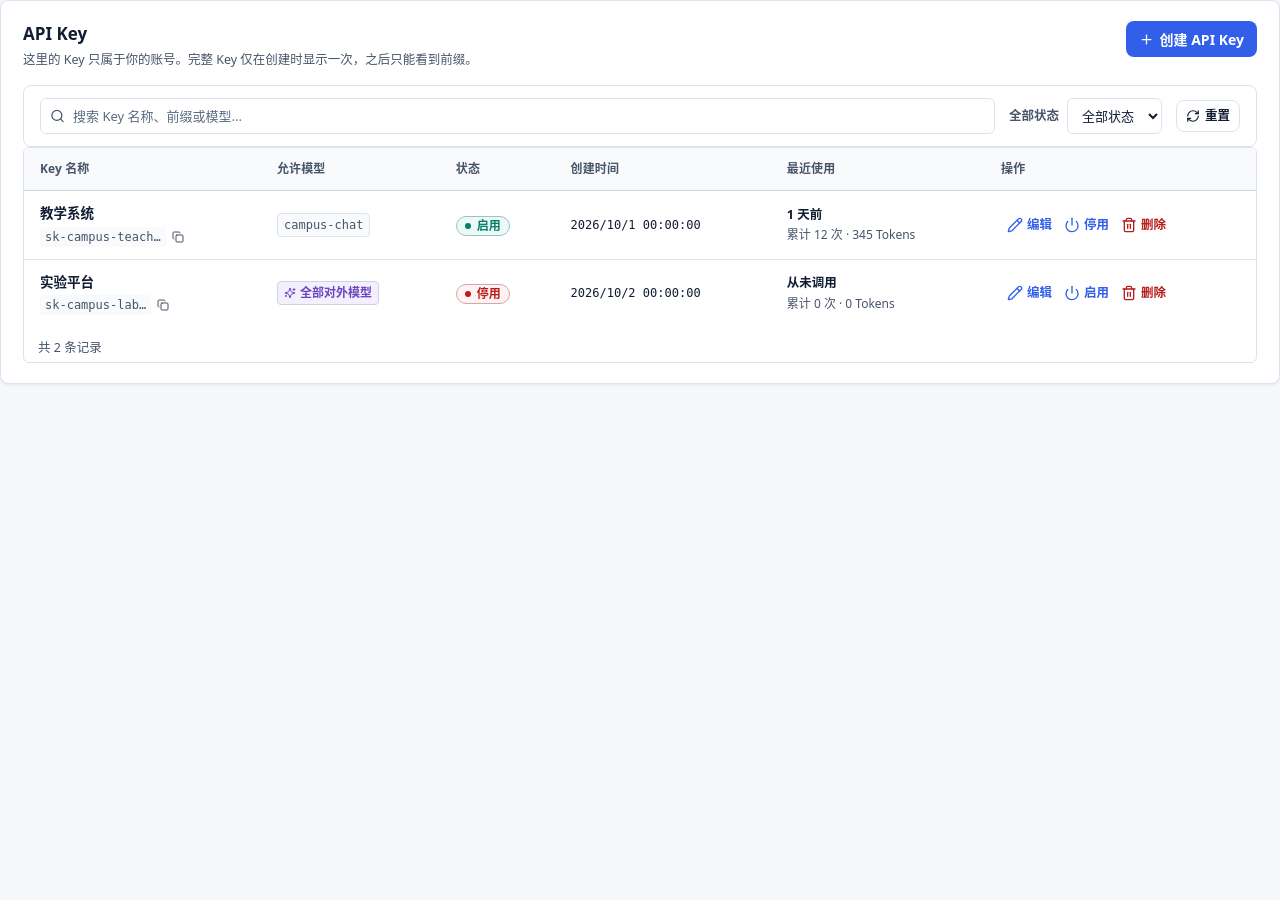
Test: personal console API keys › requires the key name to be typed before a permanent delete
Check: the text "教学系统" is shown, box [40,204,94,222]
Click the button "删除" in the row of "教学系统": [1144, 225] box [1115,212,1172,238]
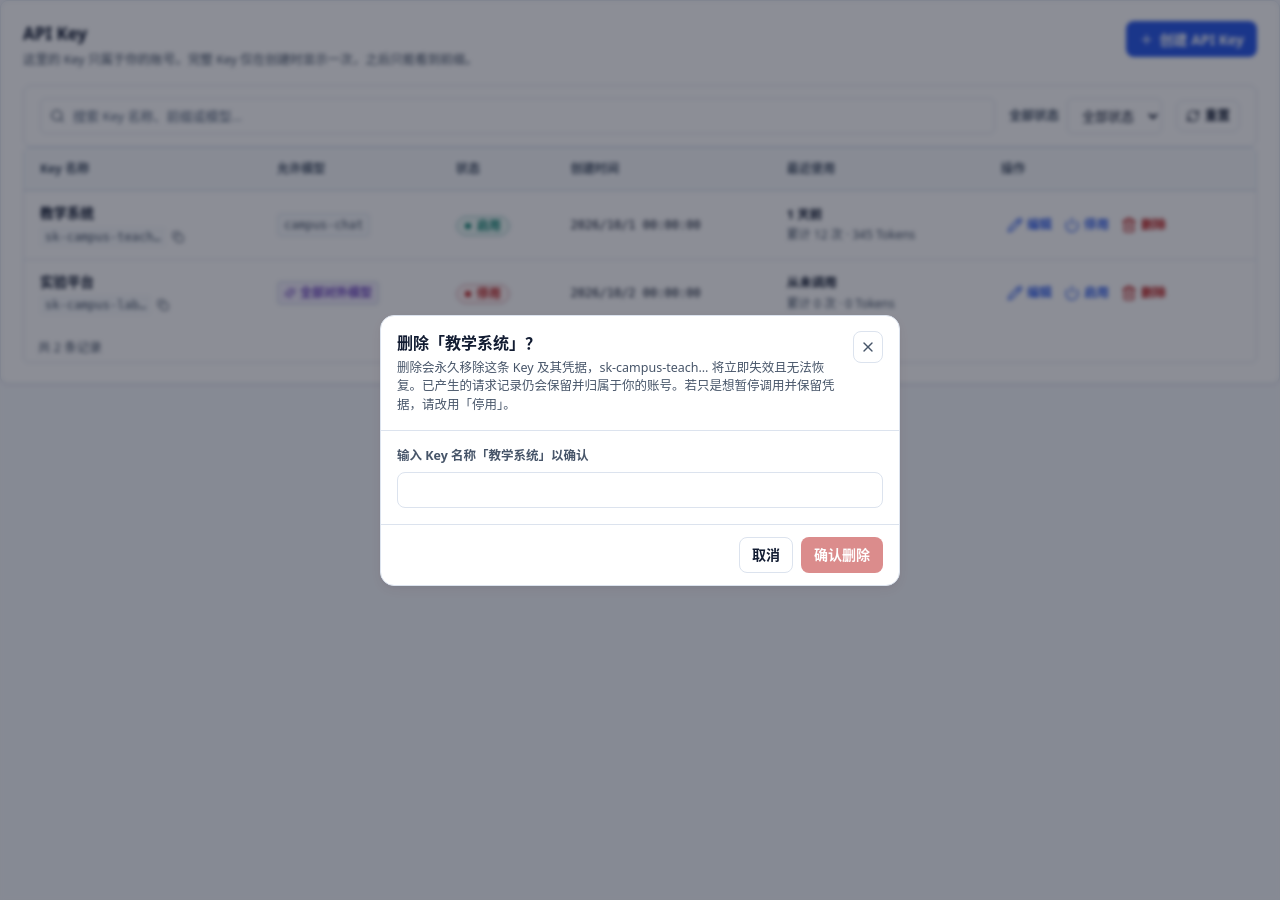
Check: the text "请改用「停用」" is shown, box [397,358,834,413]
Check: the button "确认删除" is disabled, box [801,536,883,572]
In the field labelled "输入 Key 名称「教学系统」以确认": [640, 490] box [397,472,883,508], type "教学系统"
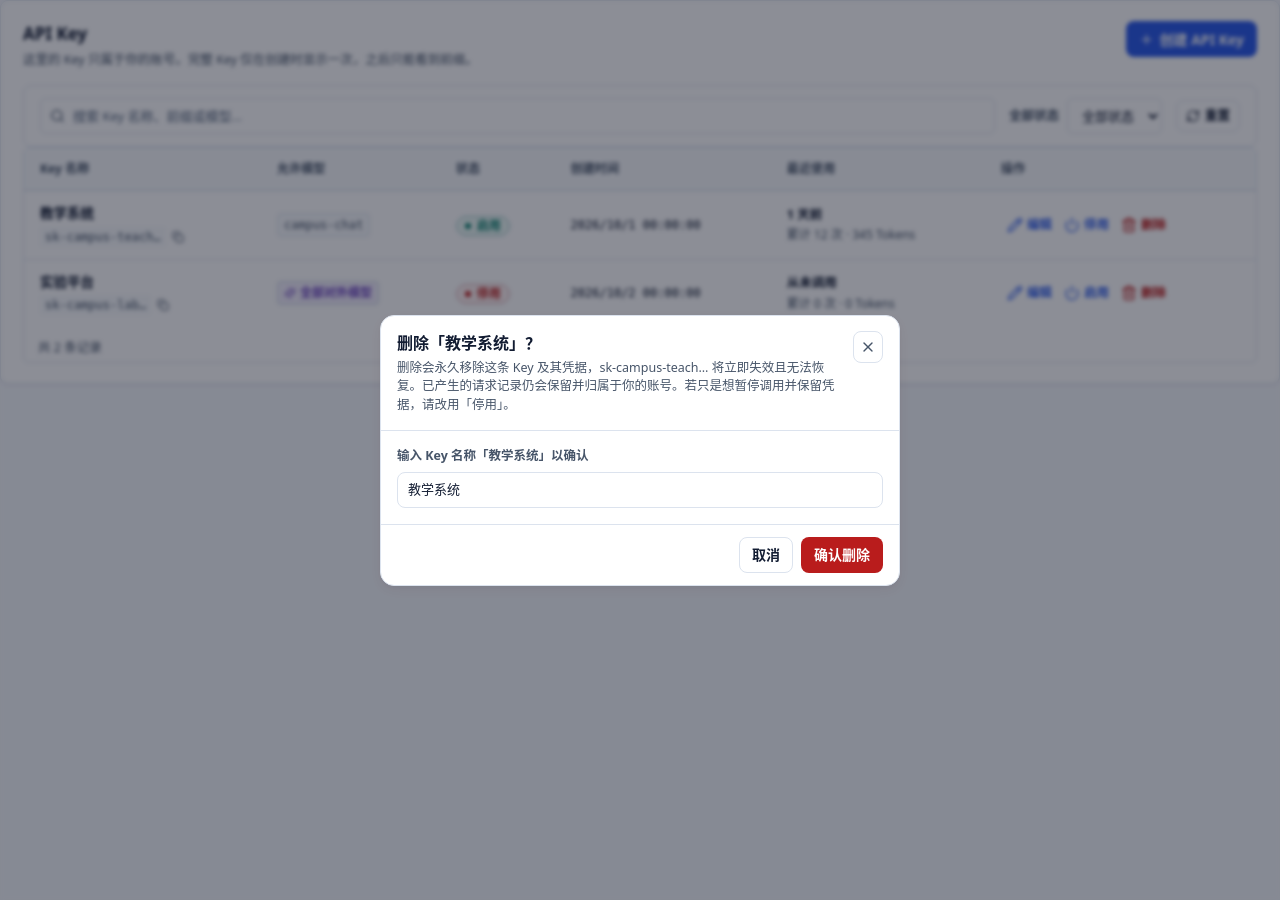
Check: the button "确认删除" is enabled
Click the button "确认删除": [842, 554] box [801,536,883,572]
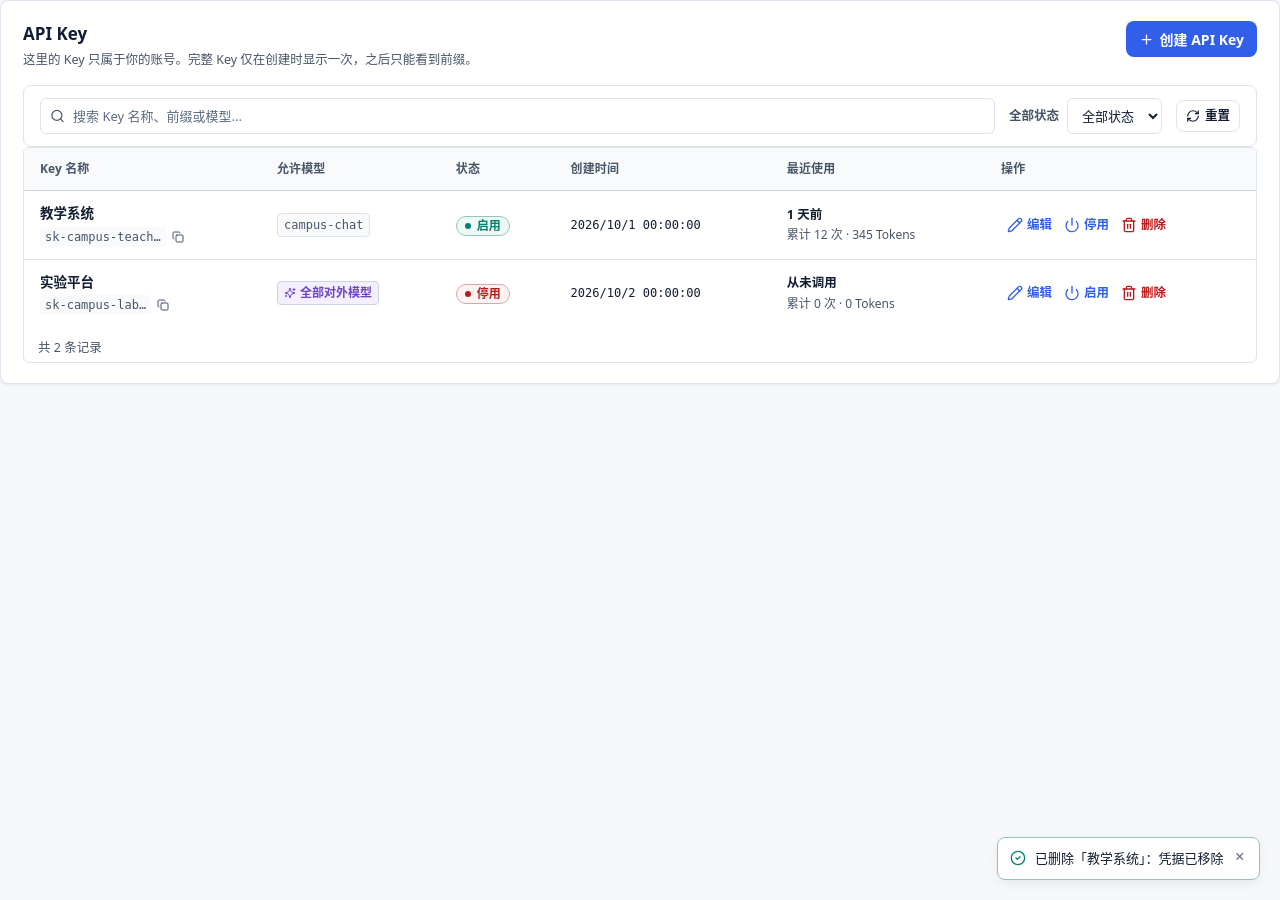
Check: the text "已删除「教学系统」：凭据已移除" is shown, box [1035,848,1224,868]
